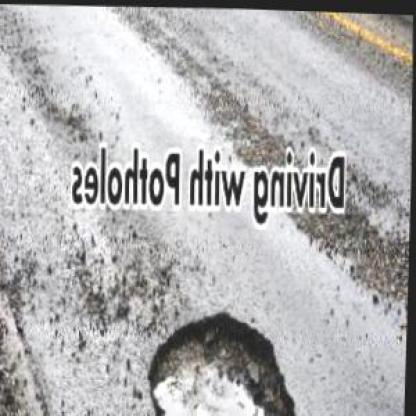pothole: (147, 298, 308, 415)
